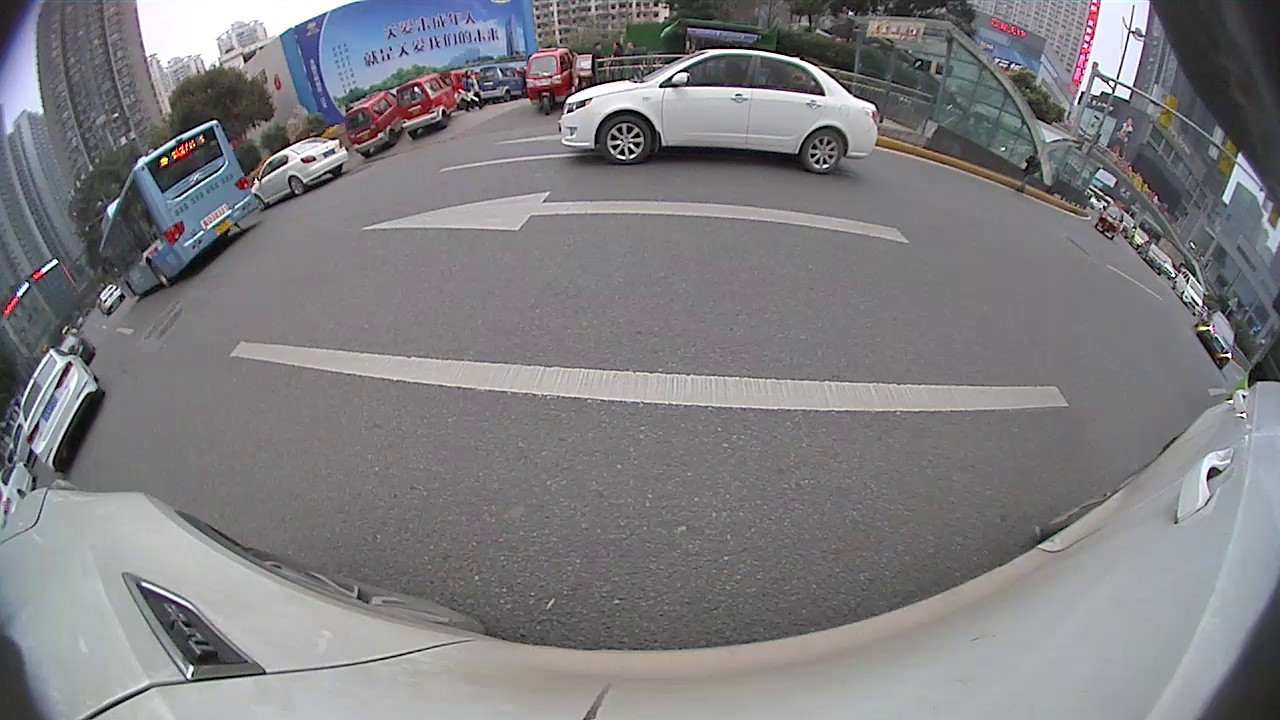bus: (96, 119, 260, 300), (1219, 291, 1278, 417)
car: (559, 47, 881, 176), (18, 347, 106, 478), (247, 137, 350, 213), (1194, 310, 1237, 372), (3, 458, 36, 515), (53, 332, 97, 363), (1175, 267, 1205, 312), (98, 283, 127, 317), (1139, 241, 1168, 271)
front: (596, 111, 656, 168)
person: (1028, 147, 1039, 187)
rear: (798, 127, 847, 177), (147, 260, 172, 288), (288, 176, 309, 198)
rider: (396, 75, 465, 141), (348, 88, 401, 158), (524, 45, 575, 115), (476, 61, 529, 105), (449, 65, 480, 105), (1095, 203, 1124, 238)
